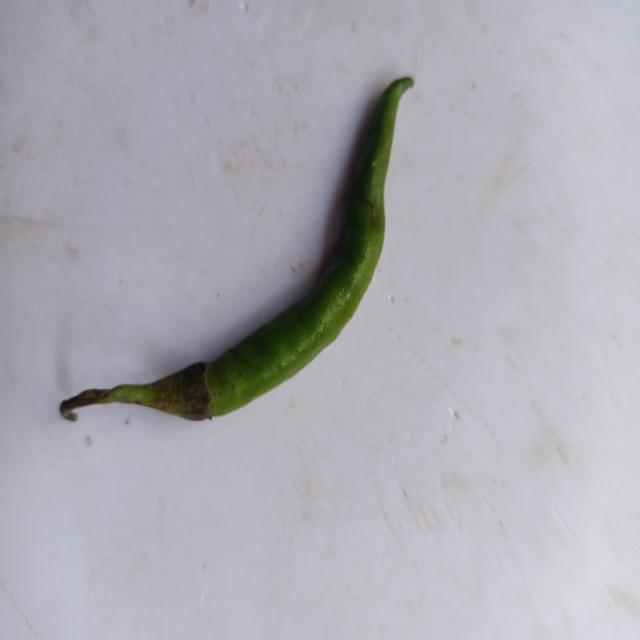Green Chilly: (59, 76, 413, 421)
